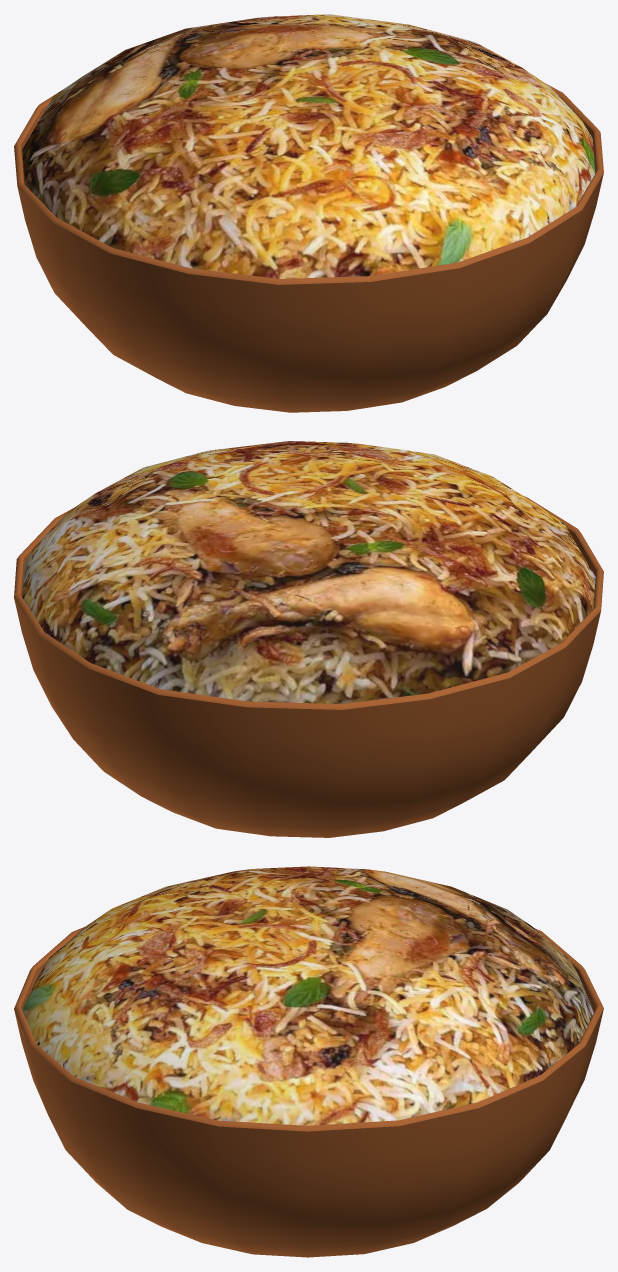
File: biryani5-transformed.glb
3 renders of one model, top to bottom at view 1: azimuth 30°, elevation 25°; view 2: azimuth 150°, elevation 25°; view 3: azimuth 270°, elevation 25°, orthographic.
Parts seen in each view (by area): view 1: bowl1; view 2: bowl1; view 3: bowl1.
Part boxes in pixels (<box>): bowl1: <box>14,14,603,412</box>; bowl1: <box>14,441,603,837</box>; bowl1: <box>14,866,603,1257</box>.
Bounding box in the file's own units: 0.0571 × 0.0315 × 0.0577.
1 material, 1 textured.
